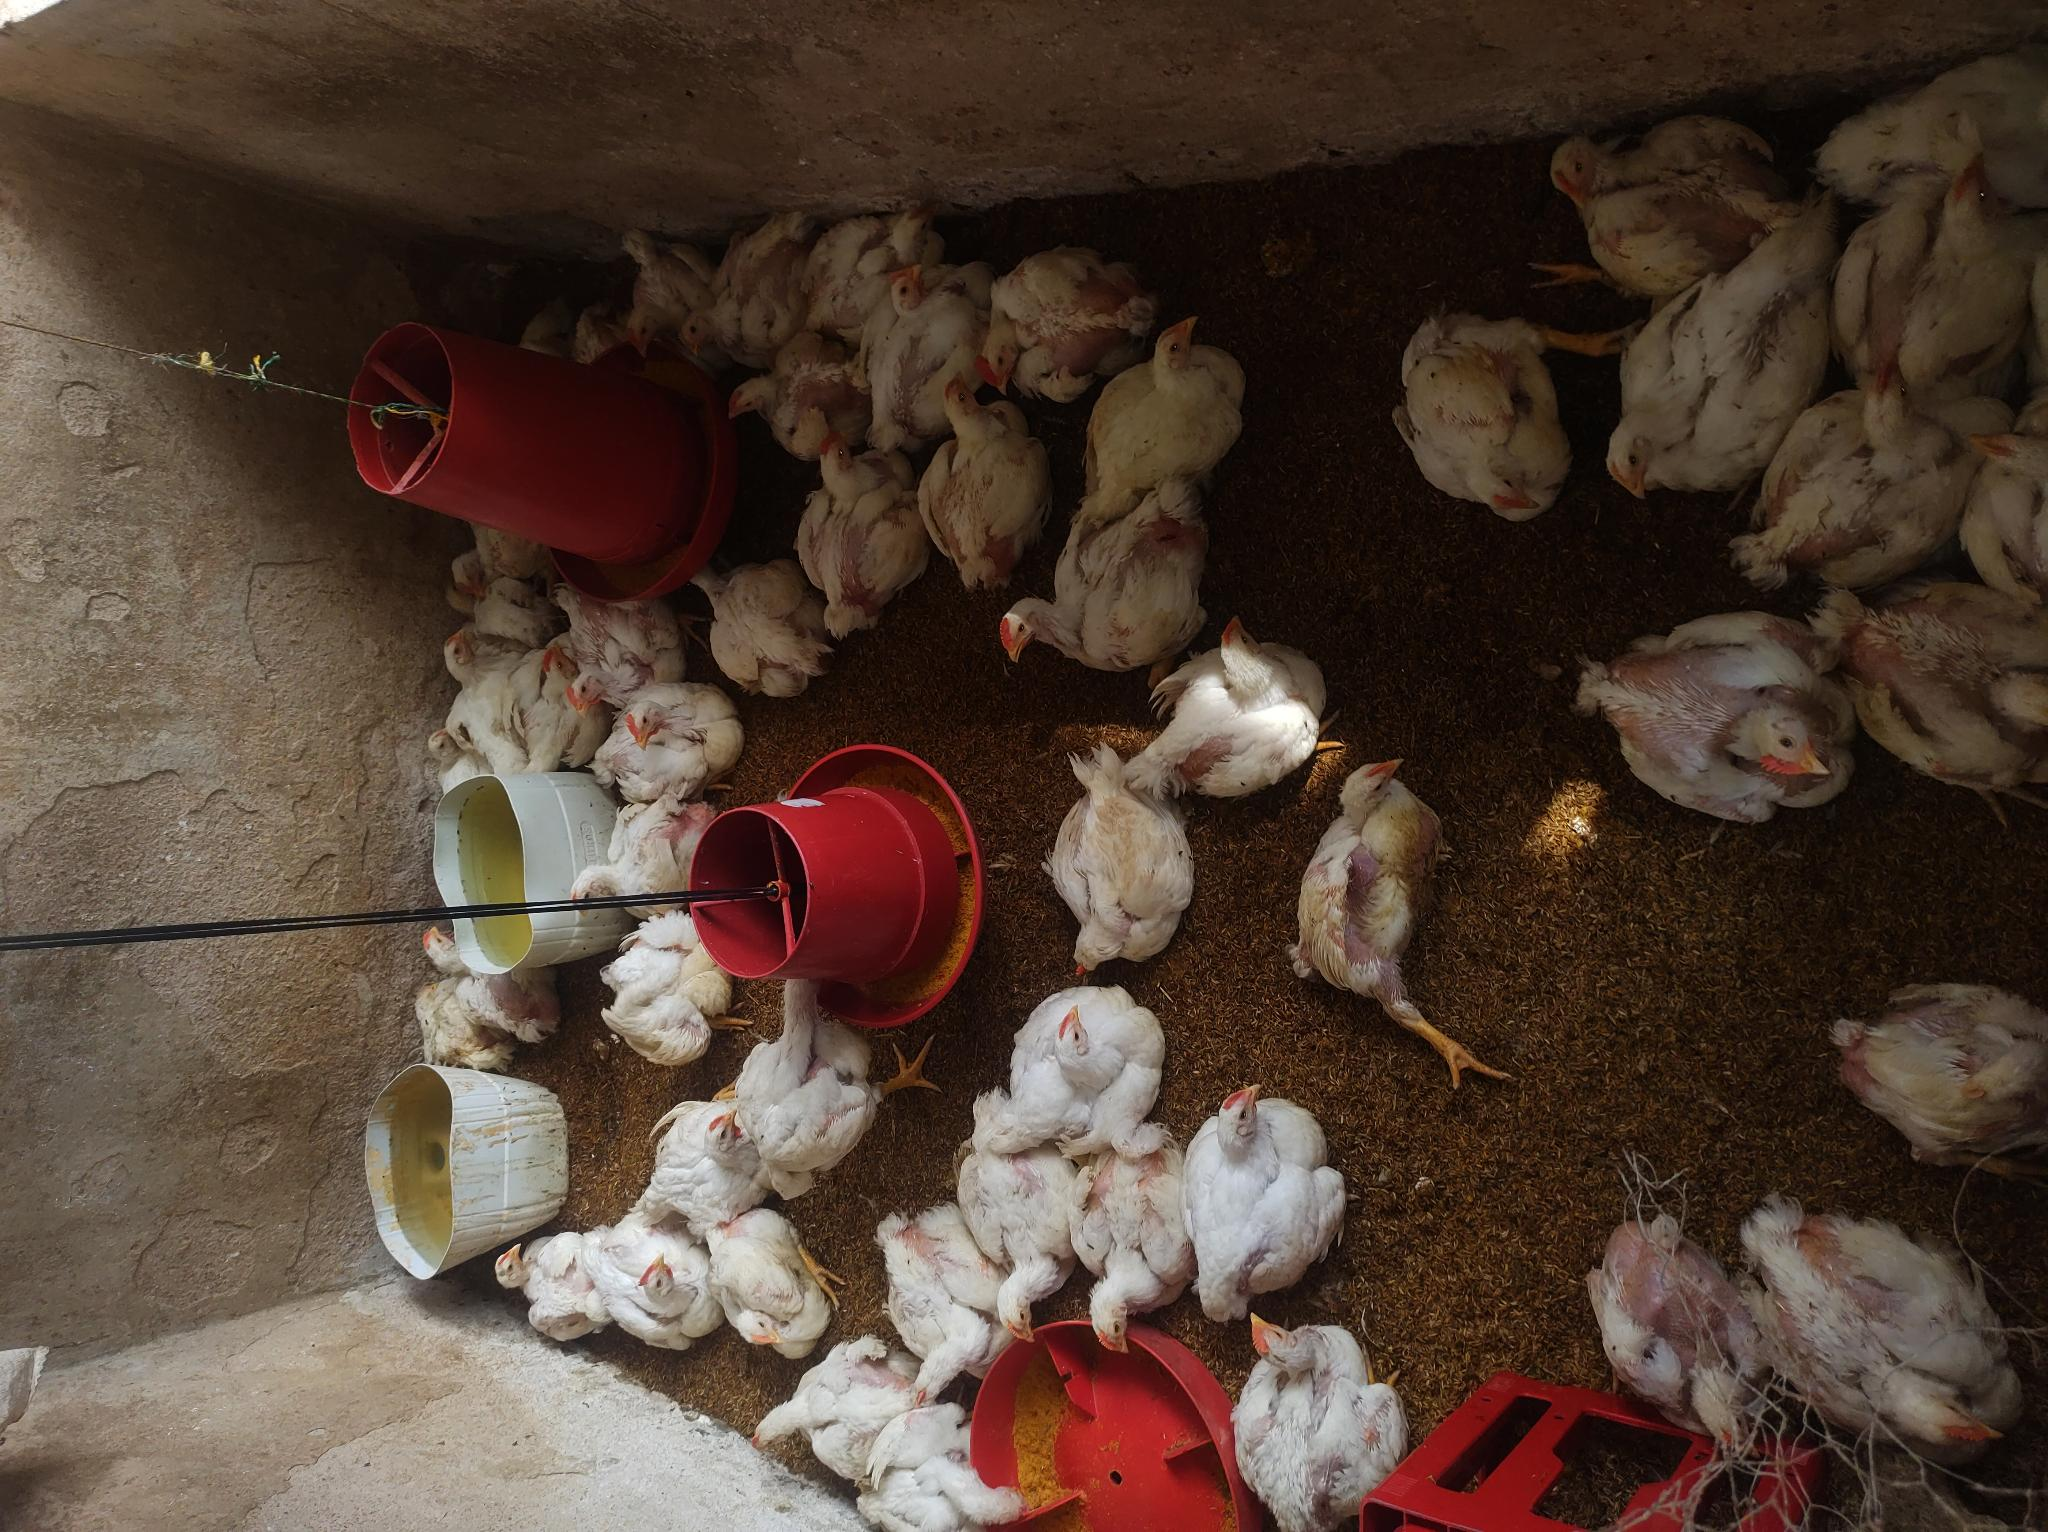Pollos: (1741, 1183, 2029, 1501), (1589, 227, 1847, 512), (1285, 763, 1501, 1069), (1575, 607, 1853, 842), (1551, 1217, 1792, 1455), (1837, 566, 2048, 814), (1528, 85, 1779, 290), (1807, 961, 2048, 1173), (1379, 290, 1572, 537), (933, 1115, 1121, 1357), (1202, 1303, 1396, 1532), (750, 961, 940, 1192), (1784, 349, 1972, 583), (1174, 1057, 1350, 1307), (988, 497, 1216, 686), (1852, 167, 2030, 399), (1141, 613, 1335, 798), (1043, 752, 1197, 978), (1089, 299, 1255, 509), (795, 422, 935, 658), (1071, 1143, 1216, 1366), (866, 1213, 1031, 1408), (973, 974, 1168, 1136), (1816, 64, 2048, 200), (978, 232, 1154, 406), (853, 1411, 1097, 1532), (397, 919, 557, 1091), (676, 534, 832, 710), (928, 369, 1047, 595), (718, 1337, 933, 1461), (607, 1085, 772, 1233), (804, 183, 948, 343), (672, 216, 806, 377), (862, 266, 978, 449), (705, 1220, 853, 1361), (729, 330, 870, 478), (603, 686, 738, 834), (1939, 391, 2048, 573), (573, 797, 722, 925), (584, 1217, 714, 1357), (595, 937, 737, 1064), (566, 571, 676, 735), (483, 1226, 603, 1361), (428, 634, 573, 732), (619, 217, 698, 370), (396, 708, 524, 792), (447, 518, 550, 613), (537, 642, 626, 708), (436, 586, 508, 661), (520, 285, 587, 360)
